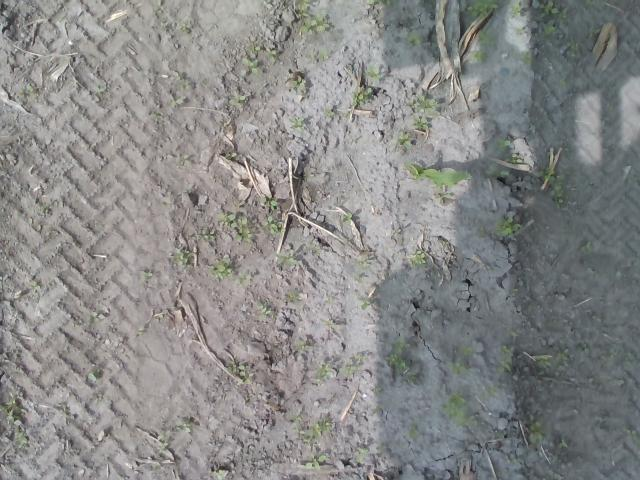Maize: (406, 162, 466, 186)
Weeds: (385, 334, 420, 384), (437, 390, 478, 430), (0, 398, 31, 448), (206, 258, 250, 288), (288, 412, 332, 442), (216, 212, 256, 243), (407, 92, 439, 130), (296, 0, 332, 33), (538, 0, 569, 37), (465, 30, 497, 64), (527, 349, 571, 372), (480, 216, 522, 239), (444, 345, 472, 376), (341, 350, 365, 378), (228, 361, 252, 386), (310, 362, 333, 386), (467, 0, 500, 16), (349, 84, 373, 106), (495, 344, 512, 375), (548, 188, 574, 208), (270, 250, 298, 268), (483, 163, 511, 179), (392, 132, 416, 150), (303, 454, 328, 470), (407, 250, 428, 268), (287, 75, 308, 93), (564, 38, 580, 61), (255, 302, 272, 323), (578, 240, 596, 259), (509, 0, 528, 18), (262, 216, 281, 234), (528, 422, 542, 445), (364, 64, 384, 80), (406, 32, 427, 47), (404, 422, 419, 442), (504, 151, 525, 165), (598, 352, 616, 368), (622, 428, 640, 444), (240, 57, 258, 73), (168, 93, 186, 109), (174, 152, 192, 168), (258, 195, 278, 209), (516, 49, 533, 65), (288, 116, 305, 132), (230, 93, 247, 109), (173, 420, 192, 434), (174, 250, 190, 266), (200, 228, 218, 242), (264, 46, 278, 63), (366, 0, 393, 8), (356, 447, 368, 465), (207, 469, 226, 480), (32, 205, 50, 216), (496, 136, 510, 150), (586, 26, 600, 40), (152, 0, 166, 14), (484, 384, 498, 398), (576, 343, 593, 354), (91, 309, 105, 322), (177, 79, 191, 92), (157, 430, 167, 448), (503, 328, 517, 340), (355, 255, 368, 267), (359, 298, 371, 310), (95, 82, 108, 93), (86, 372, 100, 382), (140, 269, 154, 278), (341, 212, 351, 224), (324, 106, 334, 118), (29, 280, 41, 290), (248, 44, 261, 53), (582, 0, 596, 8), (510, 286, 520, 297), (515, 26, 526, 36), (297, 341, 307, 351), (558, 440, 568, 450), (224, 152, 236, 160), (136, 326, 144, 336), (180, 24, 187, 32)
